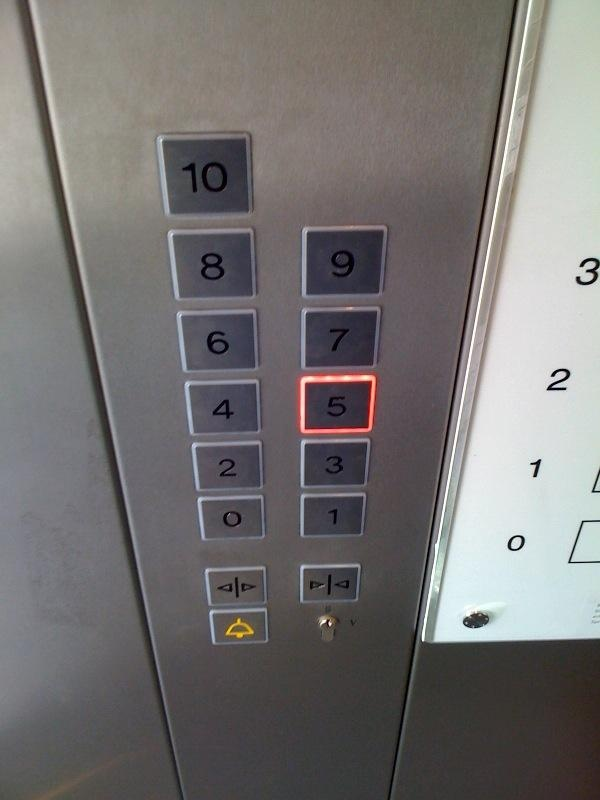0: (196, 496, 265, 541)
1: (300, 494, 367, 538)
10: (156, 133, 254, 217)
2: (190, 442, 266, 493)
3: (300, 439, 369, 488)
4: (186, 379, 263, 437)
5: (300, 376, 375, 433)
6: (175, 308, 260, 373)
7: (298, 306, 381, 370)
8: (166, 226, 257, 301)
9: (301, 225, 387, 298)
alarm: (209, 610, 268, 645)
close: (300, 564, 361, 605)
keyhole: (316, 613, 339, 643)
open: (205, 566, 267, 607)
